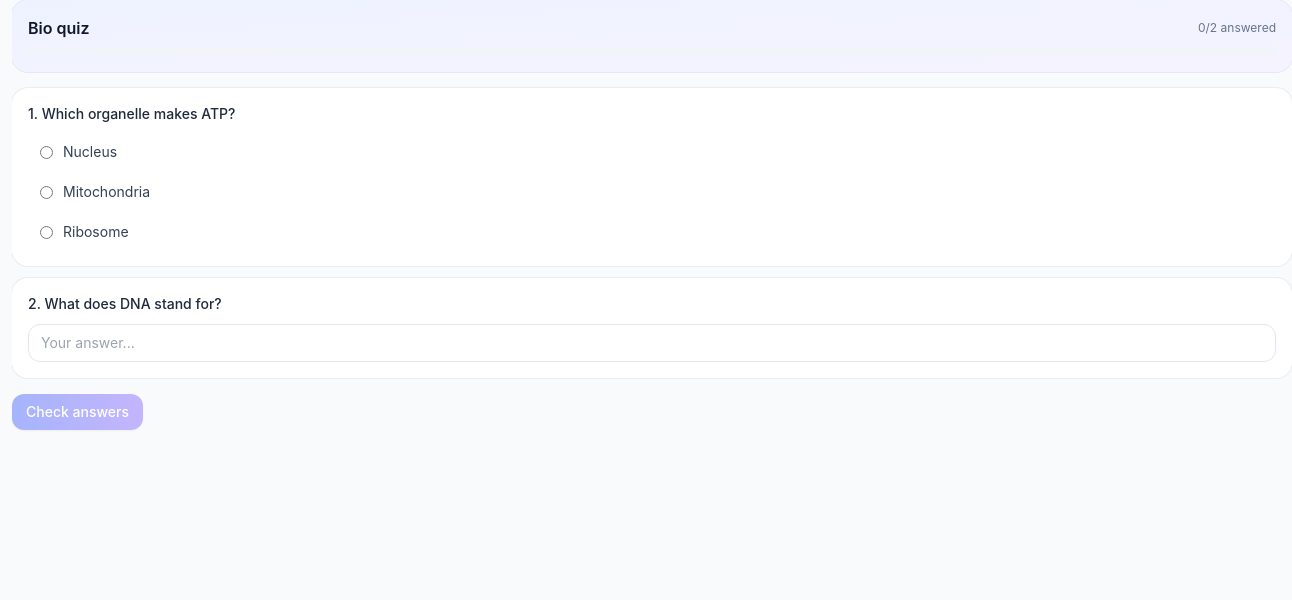
Test: QuizView › renders questions and scores answers
Check: the heading "Bio quiz" is shown, box [28,16,90,40]
Click the radio button labelled "Mitochondria".
click(46, 192)  # box [40,186,53,198]
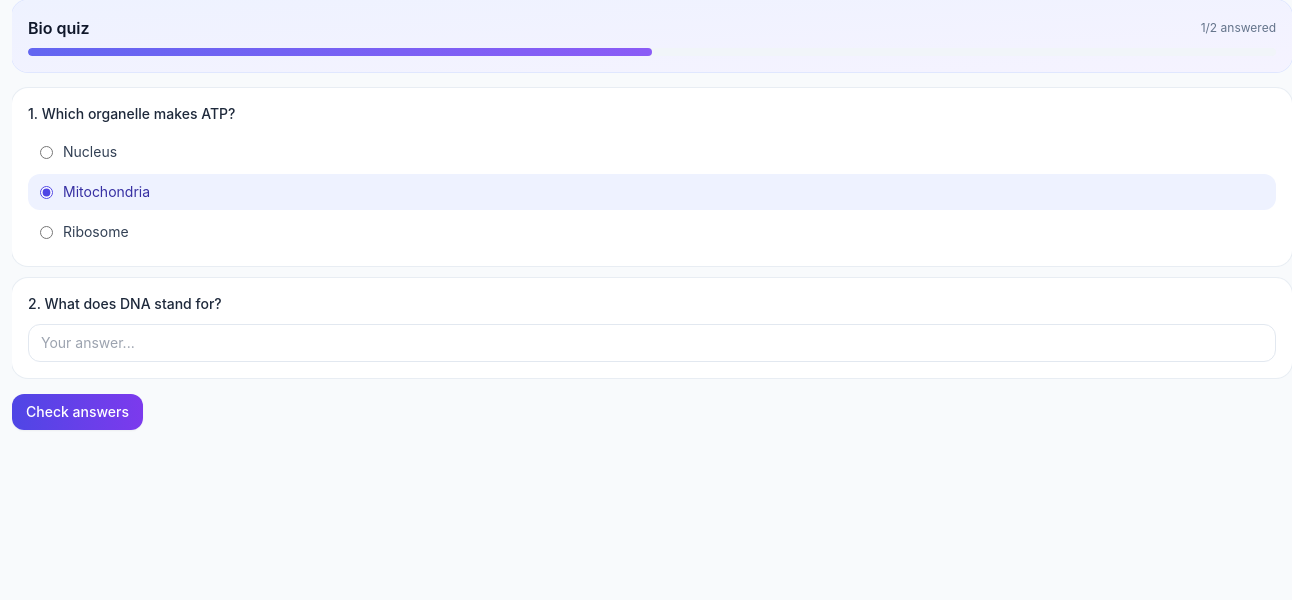
Type "wrong" into the field with placeholder "Your answer...".
click(652, 343); type("wrong")  # box [28,324,1276,362]
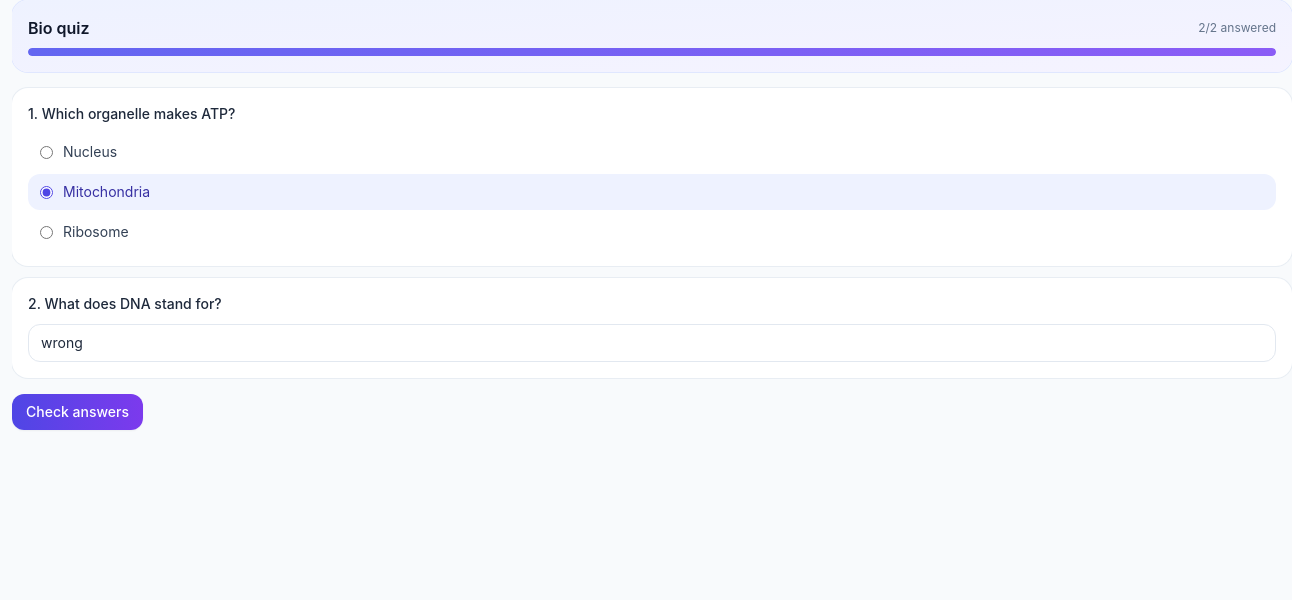
Click the button "Check answers".
click(78, 412)  # box [12,394,143,430]
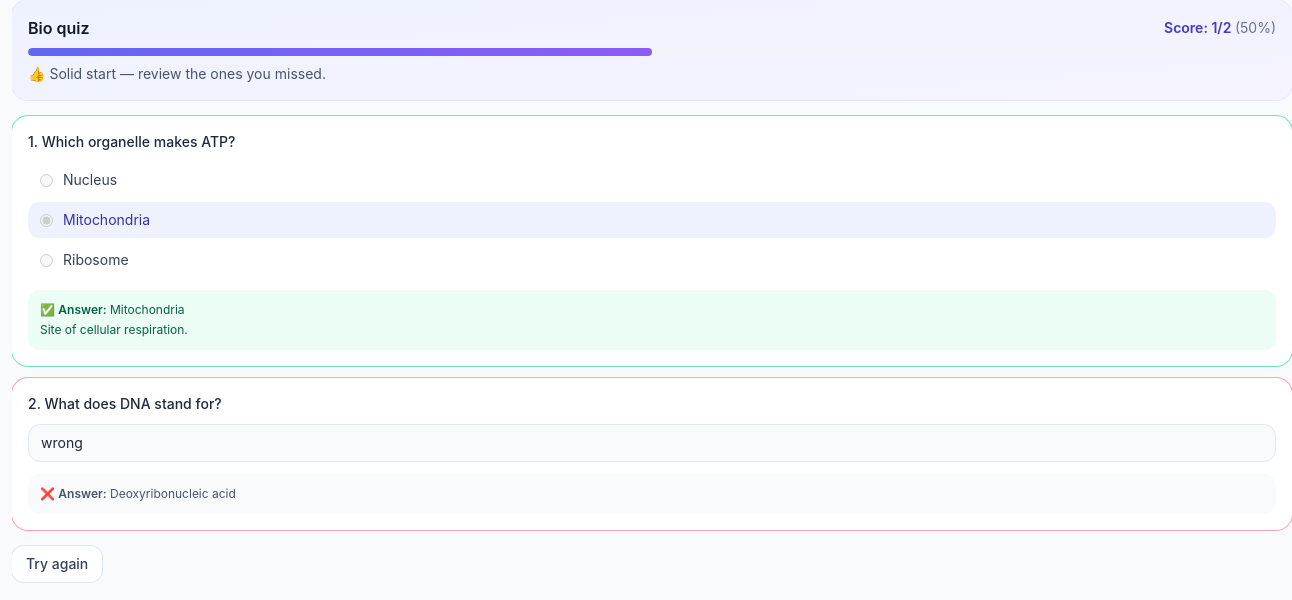
Check: the text "Score: 1/2" is shown, box [1164,19,1231,36]
Check: the text "Answer:" below "Which organelle makes ATP?" is shown, box [58,302,107,317]
